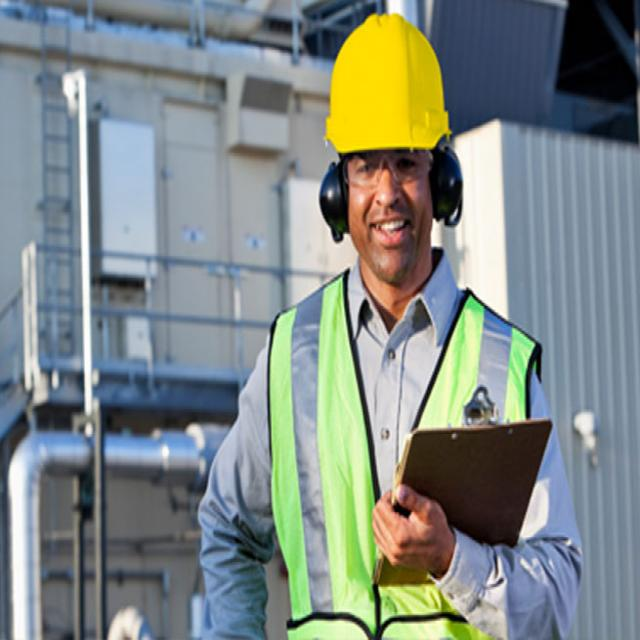Reflective-Jacket: (259, 280, 546, 628)
Safety-Helmet: (320, 12, 456, 163)
